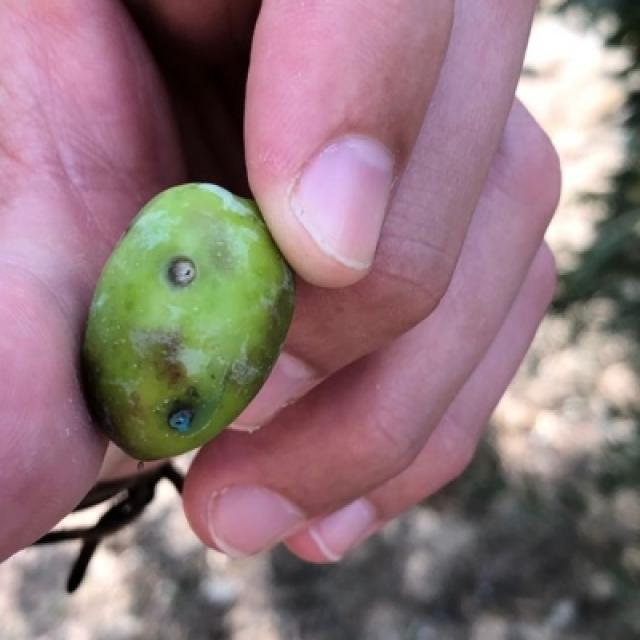Anthracnose: (82, 184, 294, 458)
